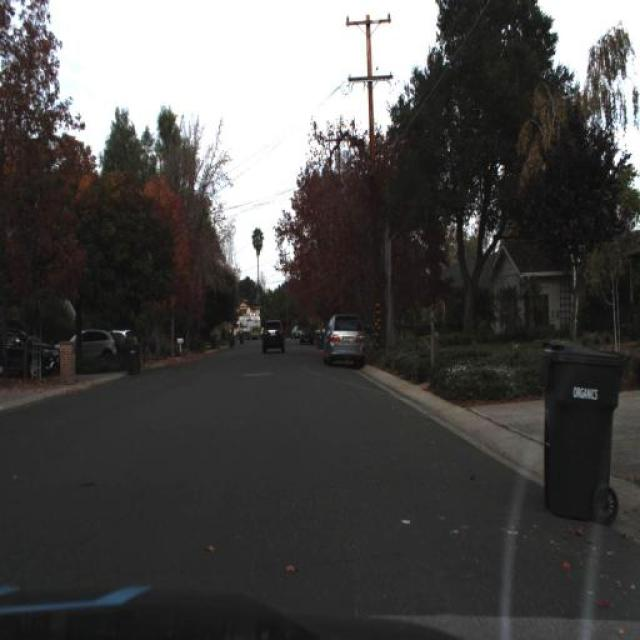car: (0, 316, 59, 390), (322, 313, 367, 368), (74, 326, 118, 360), (257, 316, 289, 356), (299, 328, 313, 343)
